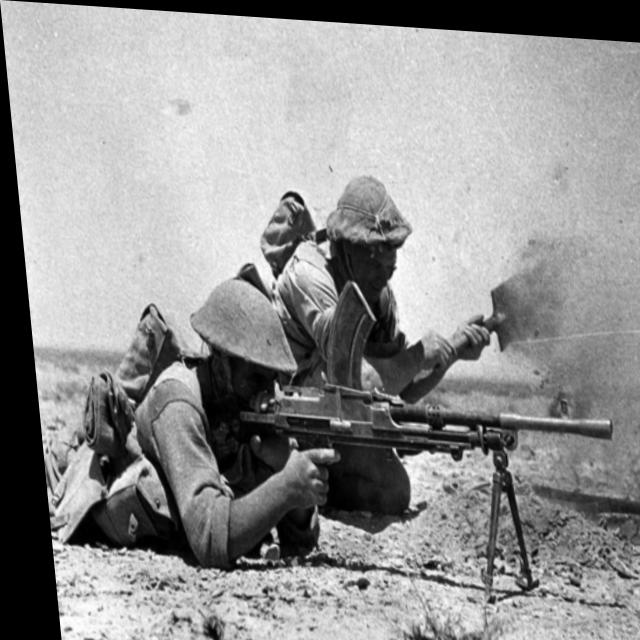other: (24, 267, 302, 561), (267, 166, 418, 382)
